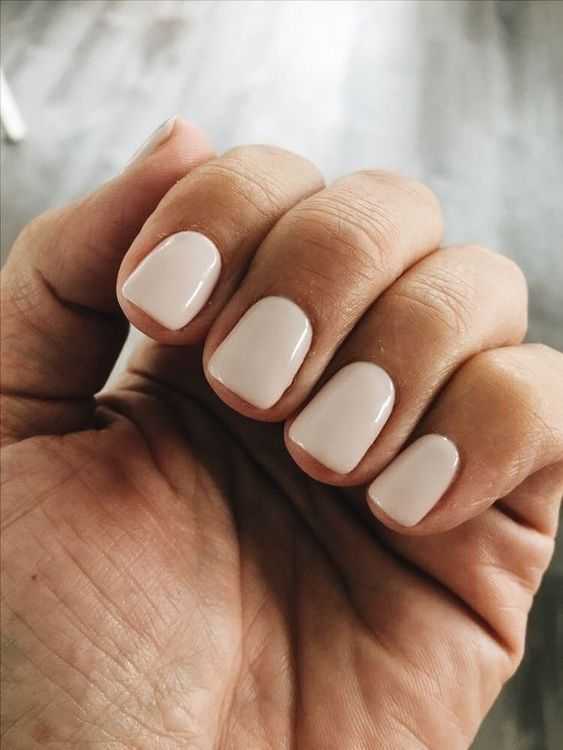nails: (287, 359, 405, 480), (205, 291, 319, 414), (118, 225, 227, 334), (365, 430, 465, 530), (118, 109, 180, 180)
